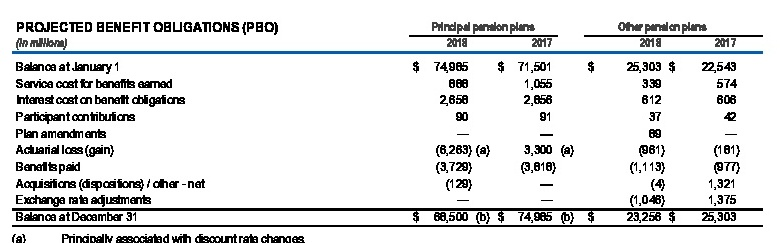table: (0, 0, 780, 243)
